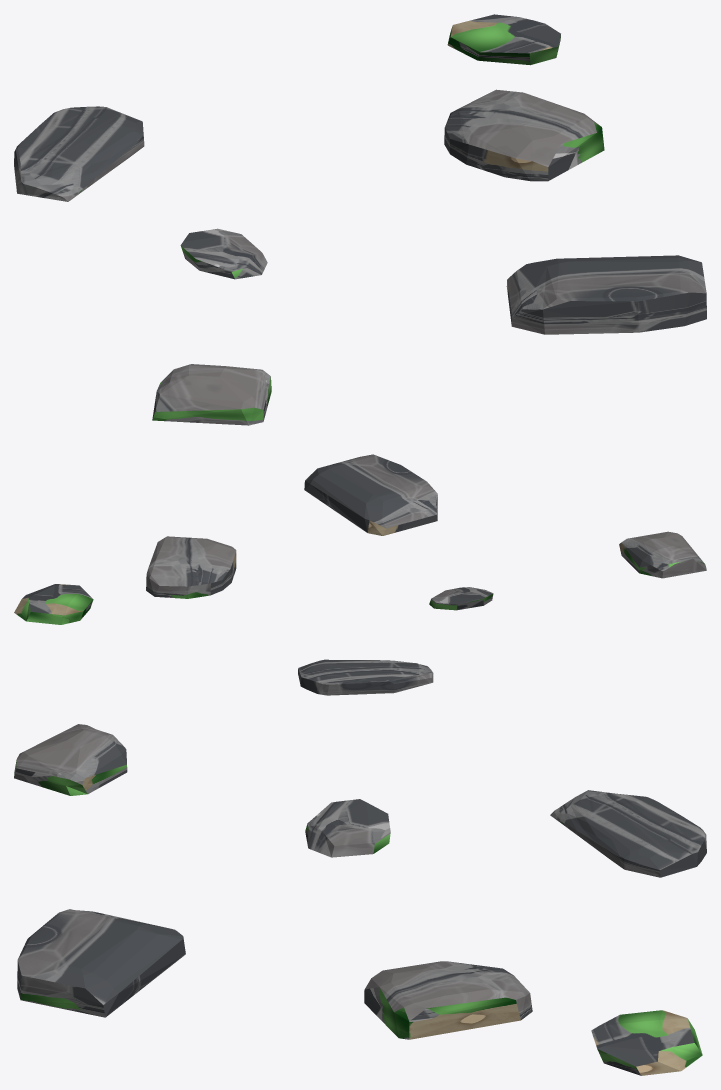
The model's file is Rocks01.fbx.
3 renders of one model, top to bottom at view 1: azimuth 30°, elevation 25°; view 2: azimuth 150°, elevation 25°; view 3: azimuth 270°, elevation 25°, orthographic. The views are drawn at different scales.
Parts seen in each view (by area): view 1: Stone05_LP.003; view 2: Stone05_LP.003; view 3: Stone05_LP.003.
Boxes of the visible parts, x1,y1,x2,y2 form: Stone05_LP.003: (14,14,706,425); Stone05_LP.003: (14,454,706,695); Stone05_LP.003: (14,724,706,1075).
Bounding box in the file's own units: 158 × 8.37 × 139.
